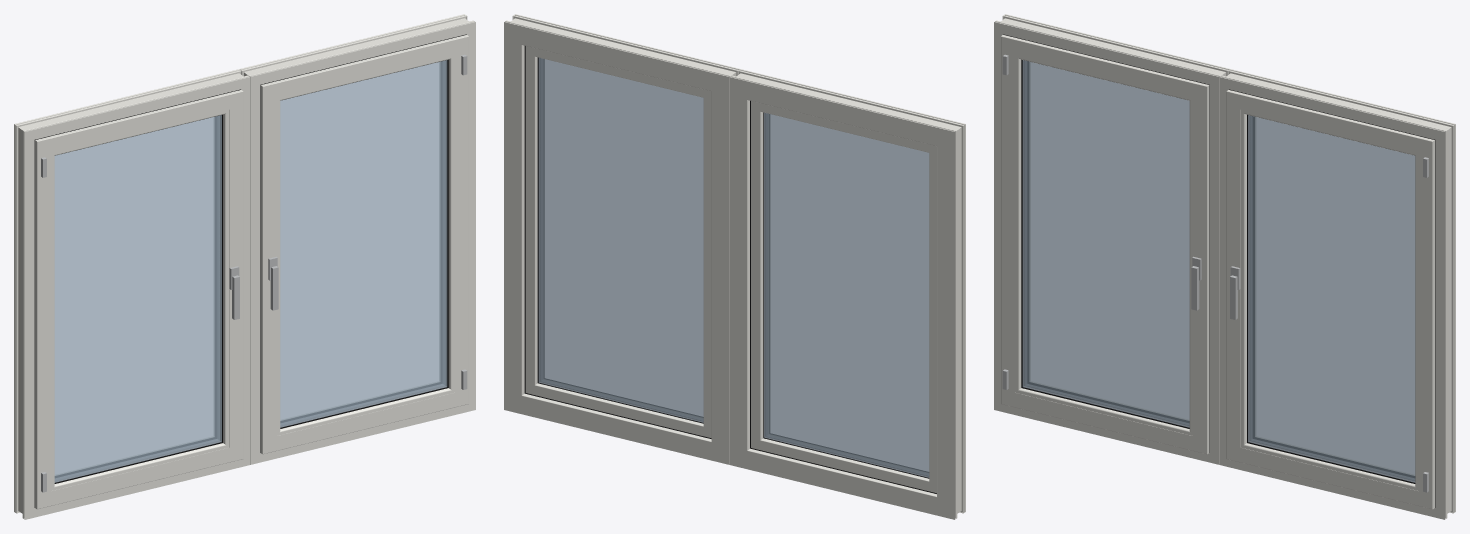
The model's file is series-76-md-hadk-hadkz.glb.
3 renders of one model, left to right at view 1: azimuth 30°, elevation 25°; view 2: azimuth 150°, elevation 25°; view 3: azimuth 330°, elevation 25°, orthographic.
Parts seen in each view (by area): view 1: Series 76 MD — HADK / HADKZ; view 2: Series 76 MD — HADK / HADKZ; view 3: Series 76 MD — HADK / HADKZ.
Part boxes in pixels (bbox=[...]): Series 76 MD — HADK / HADKZ: bbox=[14, 14, 475, 519]; Series 76 MD — HADK / HADKZ: bbox=[504, 14, 965, 519]; Series 76 MD — HADK / HADKZ: bbox=[994, 14, 1455, 519].
Bounding box in the file's own units: 1.8 × 1.48 × 0.1177.
